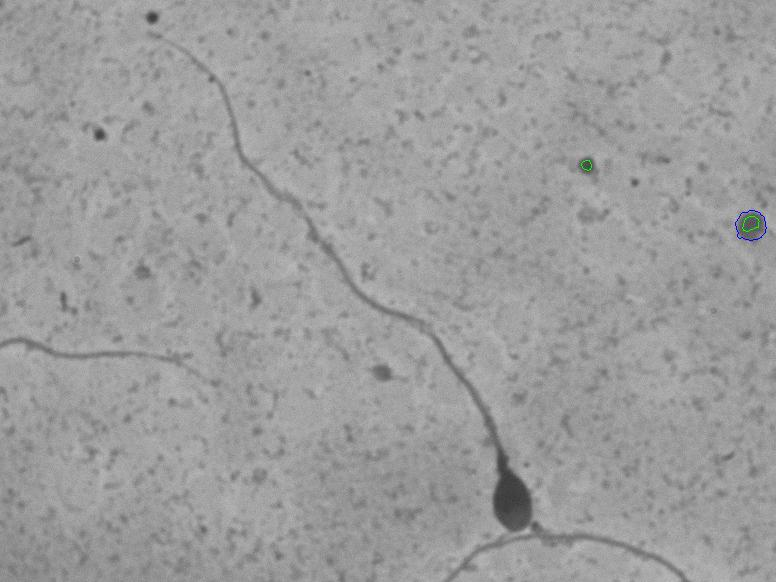Normal: (139, 7, 557, 539)
